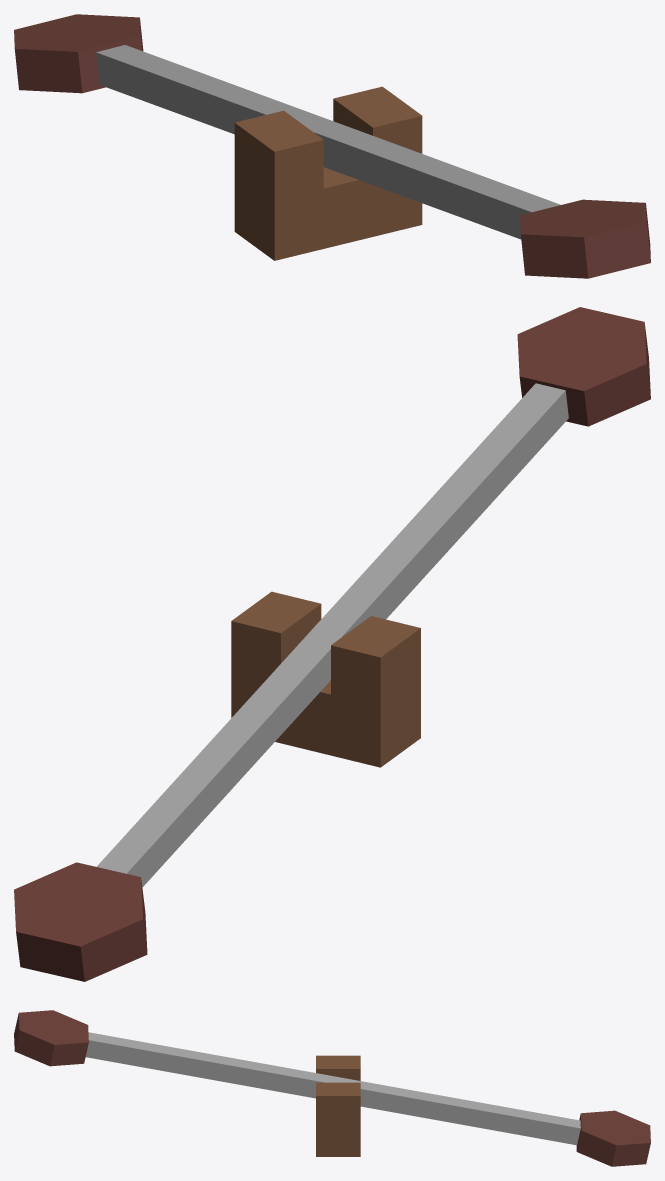
File: whippe.fbx
3 renders of one model, top to bottom at view 1: azimuth 30°, elevation 25°; view 2: azimuth 150°, elevation 25°; view 3: azimuth 270°, elevation 25°, orthographic. The views are drawn at different scales.
Parts seen in each view (by area): view 1: Whippe; view 2: Whippe; view 3: Whippe.
Boxes of the visible parts, x1,y1,x2,y2 form: Whippe: (14,14,650,278); Whippe: (14,307,650,981); Whippe: (14,1010,650,1166).
Bounding box in the file's own units: 0.8909 × 1.4 × 5.94.
